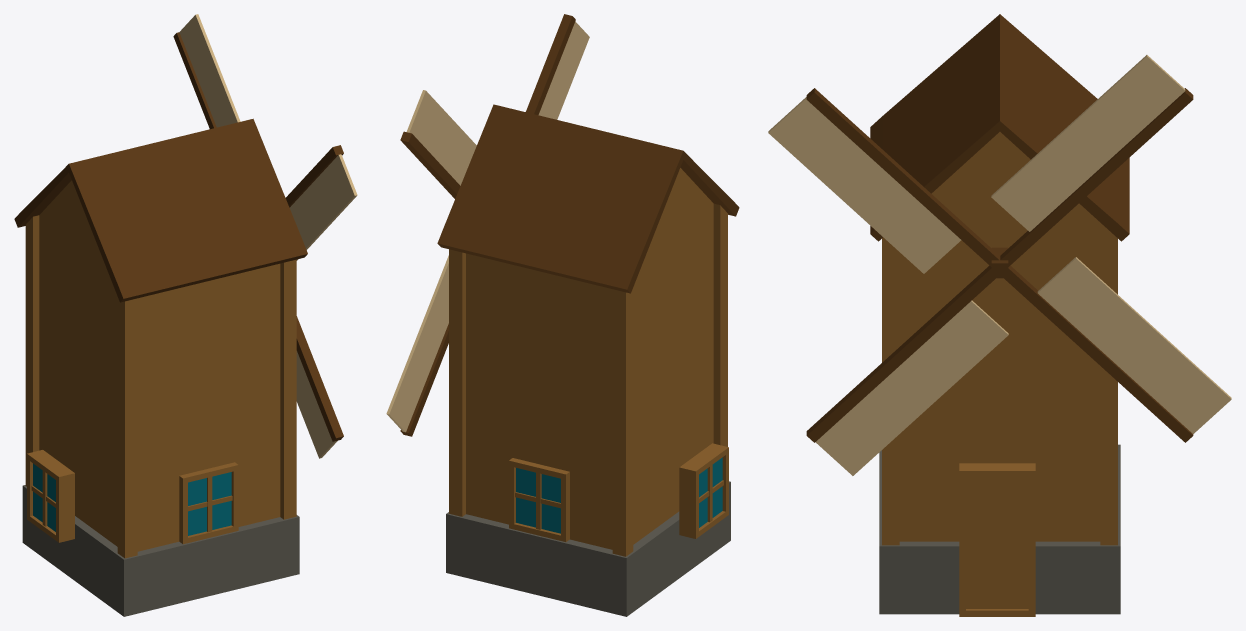
Rendered from FarmWindMill.fbx.
The picture shows the model from 3 angles, left to right: view 1: azimuth 30°, elevation 25°; view 2: azimuth 150°, elevation 25°; view 3: azimuth 270°, elevation 25°; orthographic projection. The views are drawn at different scales.
Parts seen in each view (by area): view 1: FarmWindMill, WindMillFan; view 2: FarmWindMill, WindMillFan; view 3: FarmWindMill, WindMillFan.
Boxes of the visible parts, x1=… form: FarmWindMill: x1=14, y1=118, x2=307, y2=616; WindMillFan: x1=173, y1=14, x2=357, y2=458; FarmWindMill: x1=437, y1=104, x2=739, y2=616; WindMillFan: x1=386, y1=14, x2=589, y2=436; FarmWindMill: x1=870, y1=14, x2=1129, y2=616; WindMillFan: x1=768, y1=55, x2=1231, y2=475.
Bounding box in the file's own units: 0.531 × 1.07 × 0.7936.
